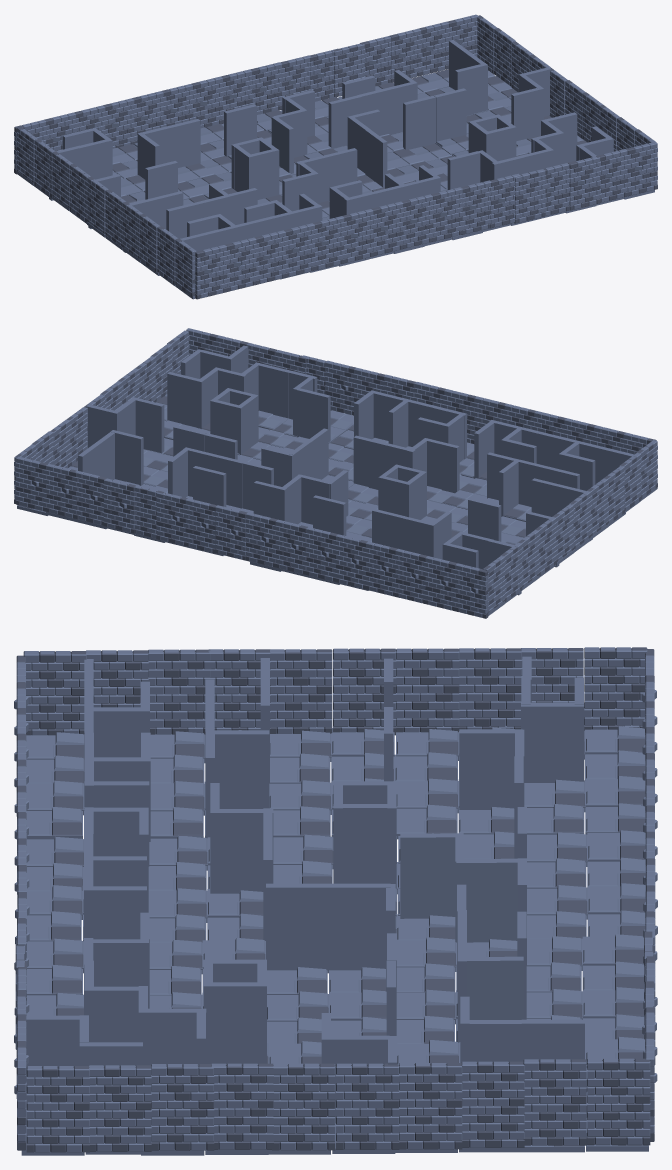
The model's file is Level1Labirint.fbx.
3 renders of one model, top to bottom at view 1: azimuth 30°, elevation 25°; view 2: azimuth 150°, elevation 25°; view 3: azimuth 270°, elevation 25°, orthographic. The views are drawn at different scales.
Parts seen in each view (by area): view 1: floor.019, floor.010, floor.021, floor.006, smooth wall.009, brick wall.046, brick wall.034, brick wall.032, brick wall.047, smooth wall.060, brick wall.039, smooth wall.008 (+94 smaller); view 2: floor.010, floor.021, floor.019, brick wall.020, floor.006, smooth wall.029, brick wall.009, brick wall.007, brick wall.014, brick wall.006, brick wall.011, brick wall.019 (+105 smaller); view 3: floor.006, floor.019, floor.010, floor.027, floor.021, brick wall.048, brick wall.057, brick wall.052, brick wall.051, brick wall.055, brick wall.053, brick wall.049 (+52 smaller).
Boxes of the visible parts, <box> form: floor.019: <box>257,96,454,194</box>; floor.010: <box>133,123,329,220</box>; floor.021: <box>375,69,586,163</box>; floor.006: <box>17,144,207,275</box>; smooth wall.009: <box>403,95,435,149</box>; brick wall.046: <box>195,245,227,299</box>; brick wall.034: <box>568,156,600,210</box>; brick wall.032: <box>626,142,657,196</box>; brick wall.047: <box>514,169,545,223</box>; smooth wall.060: <box>511,87,543,141</box>; brick wall.039: <box>401,194,433,248</box>; smooth wall.008: <box>434,88,466,141</box>; floor.010: <box>250,474,486,590</box>; floor.021: <box>17,402,269,534</box>; floor.019: <box>134,430,354,561</box>; brick wall.020: <box>455,563,488,618</box>; floor.006: <box>369,498,625,615</box>; smooth wall.029: <box>427,439,459,493</box>; brick wall.009: <box>103,478,135,533</box>; brick wall.007: <box>45,463,76,519</box>; brick wall.014: <box>275,519,307,574</box>; brick wall.006: <box>15,456,47,511</box>; brick wall.011: <box>185,498,216,553</box>; brick wall.019: <box>425,556,457,611</box>; floor.006: <box>150,726,645,839</box>; floor.019: <box>149,934,643,1043</box>; floor.010: <box>148,830,645,942</box>; floor.027: <box>26,836,83,995</box>; floor.021: <box>141,1036,648,1155</box>; brick wall.048: <box>587,1058,650,1145</box>; brick wall.057: <box>26,1066,89,1152</box>; brick wall.052: <box>336,1063,399,1149</box>; brick wall.051: <box>399,1063,462,1149</box>; brick wall.055: <box>151,1064,214,1150</box>; brick wall.053: <box>272,1063,335,1150</box>; brick wall.049: <box>523,1059,586,1145</box>.
Size of the model in its own units: 3274 by 355 by 2144.
